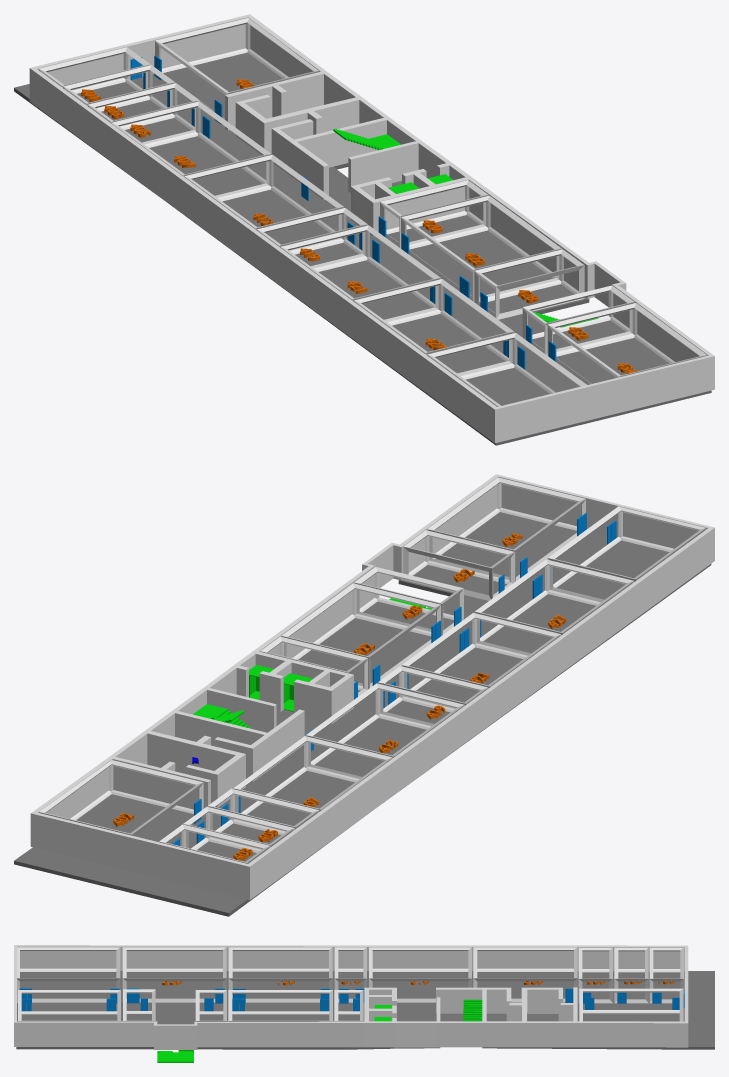
3 renders of one model, top to bottom at view 1: azimuth 30°, elevation 25°; view 2: azimuth 150°, elevation 25°; view 3: azimuth 270°, elevation 25°, orthographic. The views are drawn at different scales.
Visible parts, largest first — view 1: Wall.004, Floor.004, B102.044, B102.041, B102.045, B102.040, B102.047, B102.038, B102.049, B102.051, B102.050, B102.048 (+5 smaller); view 2: Wall.004, Floor.004, B102.045, B102.044, B102.048, B102.041, B102.051, B102.050, B102.047, B102.040, B102.038, B102.049 (+5 smaller); view 3: Wall.004, Floor.004, B102.040, B102.048, B102.041, B102.051, B102.038, B102.044, B102.047, B102.045, B102.042, B102.029 (+7 smaller).
Part boxes in pixels (x1,y1,x2,y2): Wall.004: (29, 14, 714, 443); Floor.004: (14, 52, 711, 445); B102.044: (401, 195, 561, 301); B102.041: (353, 279, 514, 375); B102.045: (547, 303, 707, 384); B102.040: (280, 225, 440, 321); B102.047: (155, 18, 319, 119); B102.038: (111, 101, 271, 197); B102.049: (474, 249, 584, 319); B102.051: (184, 154, 343, 250); B102.050: (522, 285, 634, 355); B102.048: (427, 333, 586, 406); Wall.004: (30, 474, 714, 900); Floor.004: (14, 512, 711, 916); B102.045: (427, 477, 585, 581); B102.044: (281, 583, 441, 688); B102.048: (547, 506, 706, 602); B102.041: (474, 559, 634, 655); B102.051: (305, 683, 464, 778); B102.050: (403, 530, 514, 600); B102.047: (38, 760, 203, 835); B102.040: (401, 613, 561, 708); B102.038: (233, 736, 392, 814); B102.049: (354, 567, 463, 635); Wall.004: (14, 945, 688, 1049); Floor.004: (16, 971, 714, 1049); B102.040: (228, 947, 332, 1002); B102.048: (17, 947, 120, 1002); B102.041: (122, 947, 226, 1002); B102.051: (369, 947, 471, 1002); B102.038: (473, 947, 577, 1002); B102.044: (228, 990, 332, 1021); B102.047: (579, 988, 683, 1021); B102.045: (18, 990, 120, 1021); B102.042: (614, 947, 648, 1003); B102.029: (578, 947, 612, 1003).
Bounding box in the file's own units: 0.9946 × 0.3116 × 3.66.
